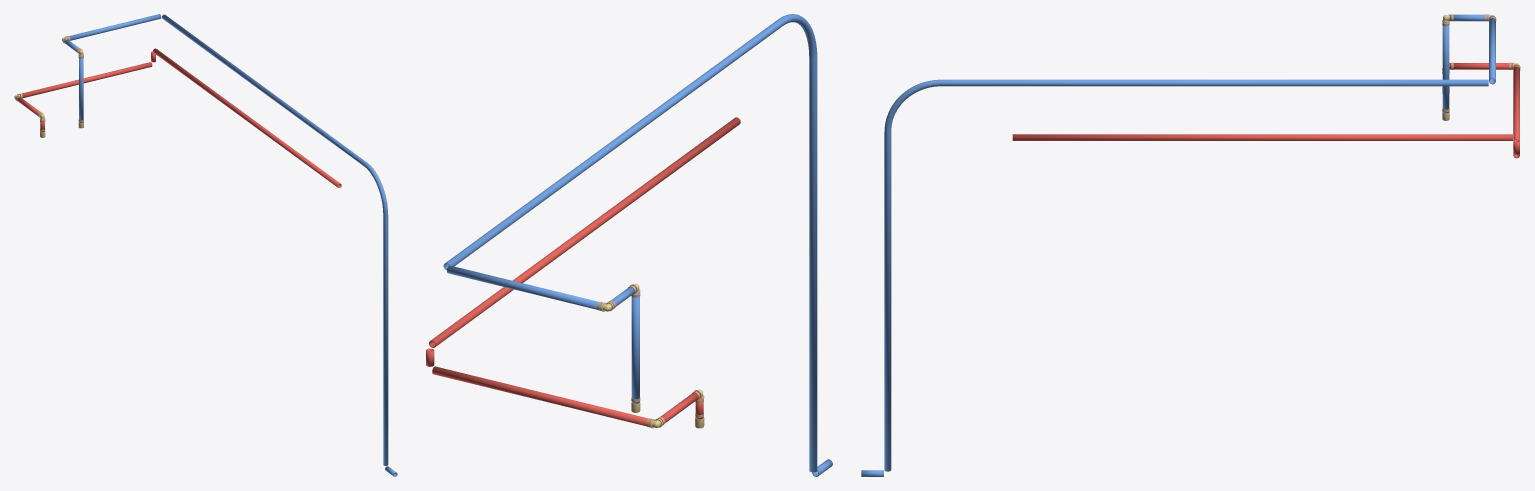
File: slab_pipes_supply__water_heater-closet_gas_tank+closet_electric_tank_and_plumbing-pex_branch__r4y.glb
3 views of the same model, side by side, from view 1: azimuth 30°, elevation 25°; view 2: azimuth 150°, elevation 25°; view 3: azimuth 270°, elevation 25° (orthographic). The views are drawn at different scales.
Visible parts, largest first — view 1: pipe_supply_tb_cold_wh_closet, pipe_supply_tb_hot_wh_closet; view 2: pipe_supply_tb_cold_wh_closet, pipe_supply_tb_hot_wh_closet; view 3: pipe_supply_tb_cold_wh_closet, pipe_supply_tb_hot_wh_closet.
Part boxes in pixels (left/top/right/bottom): pipe_supply_tb_cold_wh_closet: left=63, top=14, right=397, bottom=476; pipe_supply_tb_hot_wh_closet: left=16, top=48, right=341, bottom=187; pipe_supply_tb_cold_wh_closet: left=443, top=14, right=832, bottom=476; pipe_supply_tb_hot_wh_closet: left=426, top=117, right=740, bottom=426; pipe_supply_tb_cold_wh_closet: left=861, top=14, right=1495, bottom=476; pipe_supply_tb_hot_wh_closet: left=1012, top=63, right=1519, bottom=158.
Size of the model in its own units: 0.7332 by 1.45 by 2.18.
